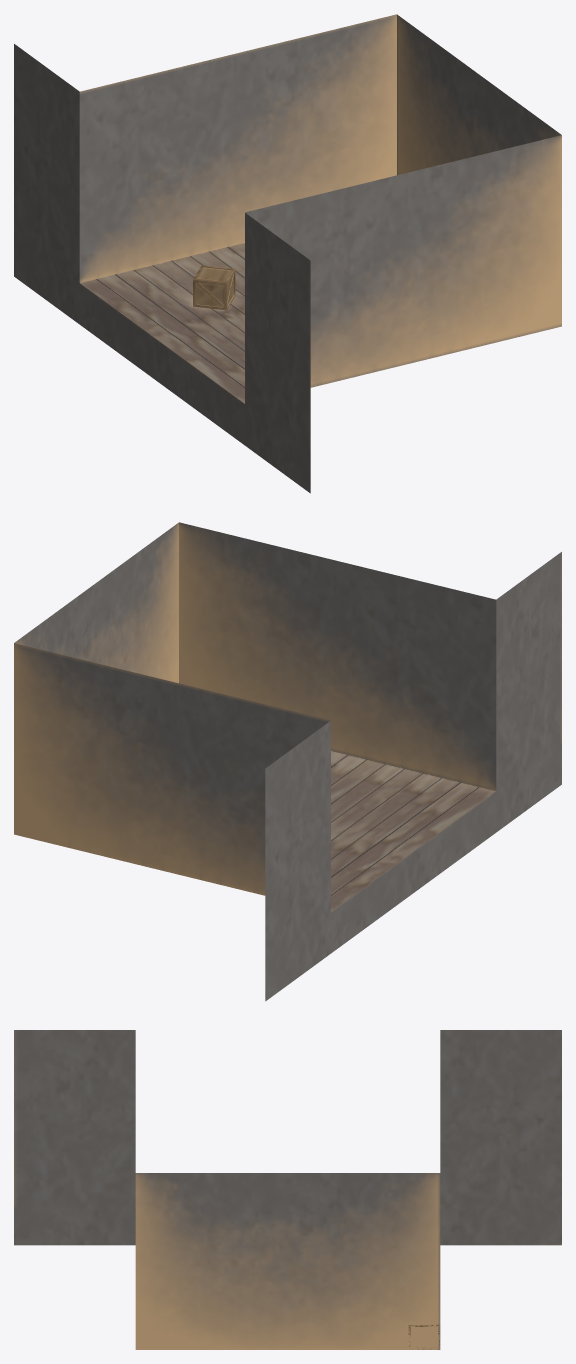
Rendered from terrain_.glb.
3 renders of one model, top to bottom at view 1: azimuth 30°, elevation 25°; view 2: azimuth 150°, elevation 25°; view 3: azimuth 270°, elevation 25°, orthographic. The views are drawn at different scales.
Parts seen in each view (by area): view 1: Plane; view 2: Plane; view 3: Plane.
Part boxes in pixels (x1,y1,x2,y2): Plane: (14, 14, 561, 493); Plane: (14, 522, 561, 1001); Plane: (14, 1030, 561, 1349).
Size of the model in its own units: 29.26 by 20.55 by 47.42.
Materials: 3 (3 with a texture image).
